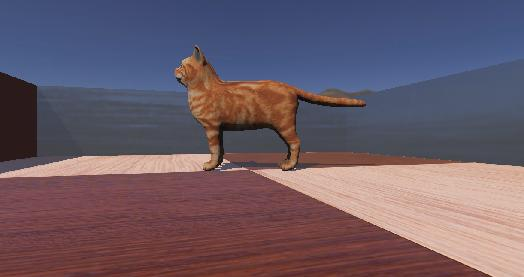Cat: (160, 39, 376, 177)
